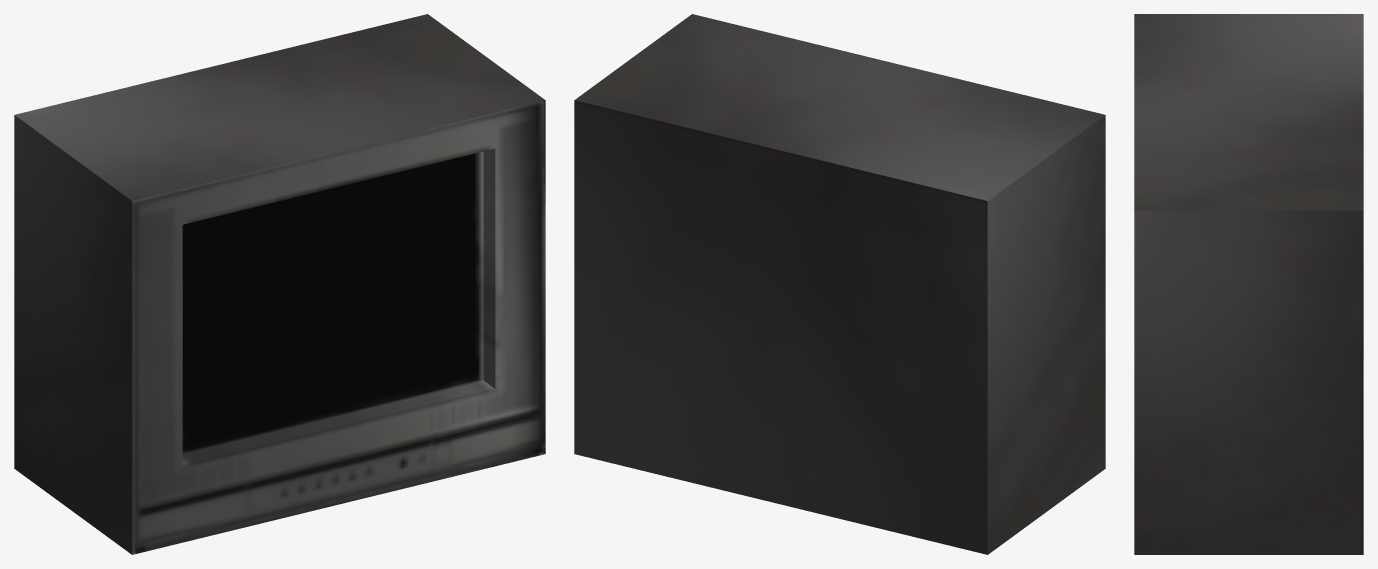
File: old_tv_3.FBX
3 renders of one model, left to right at view 1: azimuth 30°, elevation 25°; view 2: azimuth 150°, elevation 25°; view 3: azimuth 270°, elevation 25°, orthographic. The views are drawn at different scales.
Visible parts, largest first — view 1: old_tv_3; view 2: old_tv_3; view 3: old_tv_3.
Boxes of the visible parts, bbox=[...] form: old_tv_3: bbox=[14, 14, 545, 554]; old_tv_3: bbox=[574, 14, 1105, 554]; old_tv_3: bbox=[1134, 14, 1363, 554].
Size of the model in its own units: 58.69 by 48.01 by 28.97.
